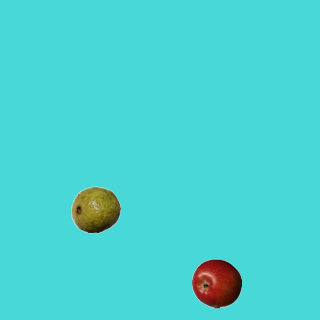Apple Braeburn: (191, 258, 241, 308)
Guava: (70, 184, 120, 234)
